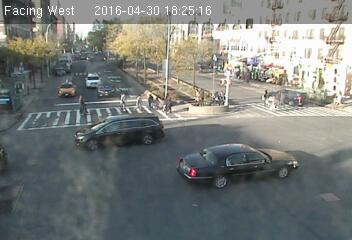neg: (61, 151, 94, 195), (103, 142, 134, 183), (88, 150, 109, 178), (35, 144, 55, 171), (20, 78, 34, 96)
pos: (128, 90, 148, 116), (114, 88, 132, 112)
